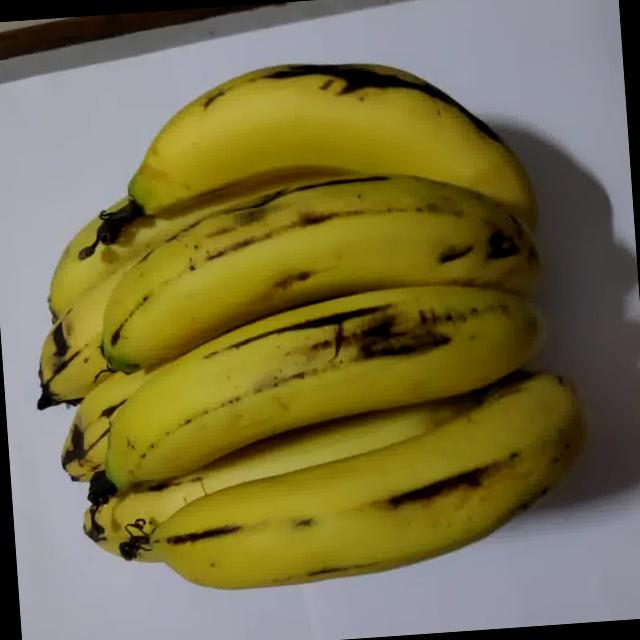banana_pacche: (0, 42, 588, 616)
